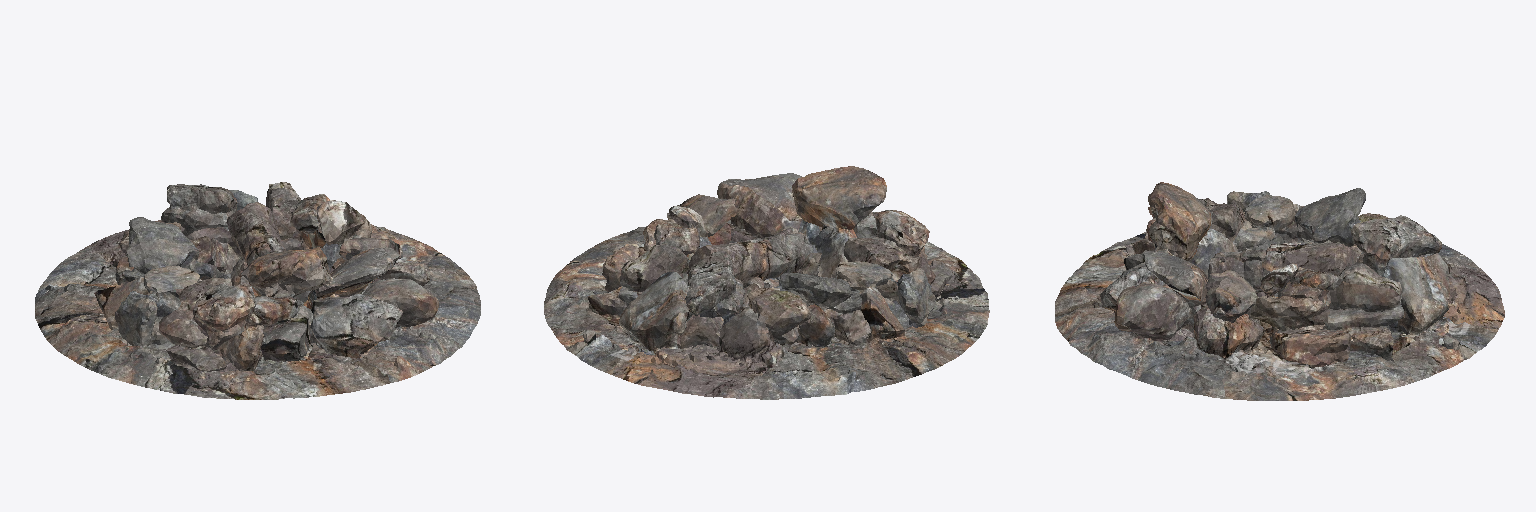
3 views of the same model, side by side, from view 1: azimuth 30°, elevation 25°; view 2: azimuth 150°, elevation 25°; view 3: azimuth 270°, elevation 25° (orthographic).
Visible parts, largest first — view 1: Aset_nature_rock_M_ulqteek_LOD0; view 2: Aset_nature_rock_M_ulqteek_LOD0; view 3: Aset_nature_rock_M_ulqteek_LOD0.
Part boxes in pixels (x1,y1,x2,y2): Aset_nature_rock_M_ulqteek_LOD0: (35, 182, 480, 399); Aset_nature_rock_M_ulqteek_LOD0: (544, 166, 989, 399); Aset_nature_rock_M_ulqteek_LOD0: (1055, 182, 1504, 400).
Size of the model in its own units: 1.19 by 0.2997 by 1.19.
1 materials, 1 textured.